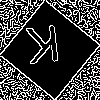K: (25, 25, 63, 74)
